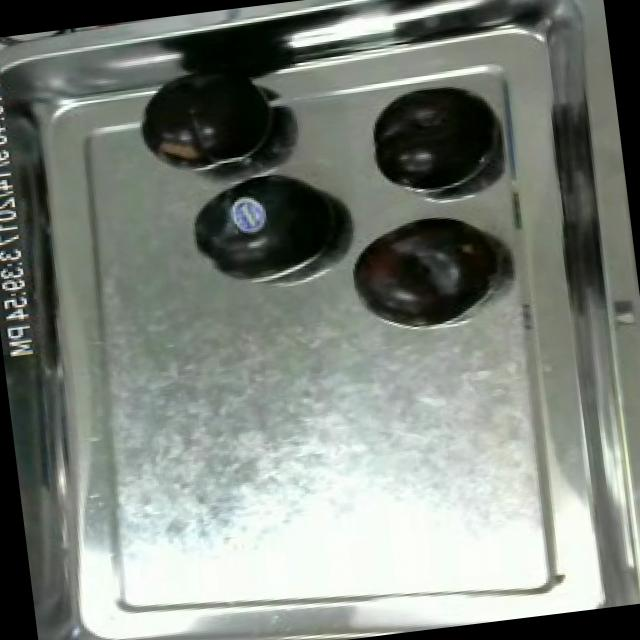Fruit: (173, 160, 354, 294), (125, 57, 291, 185), (338, 205, 499, 332), (358, 79, 503, 201)
